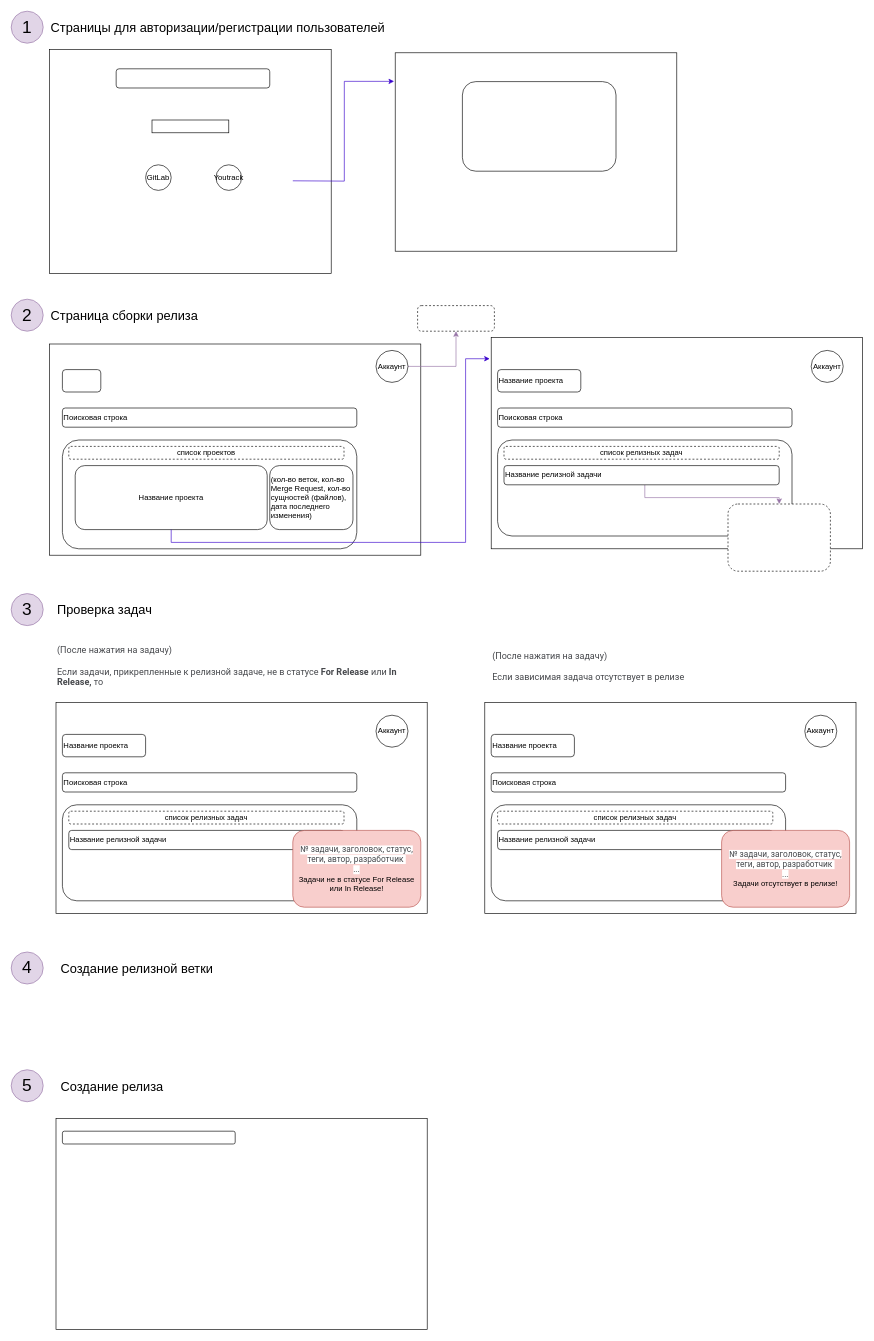
This 874x1341 diagram has some shape labels left out. The centre of each missing label's shape, as x and y in pixels:
Авторизация: [193,78]
войти по: [190,126]
Выйти из аккаунта: [455,318]
Выпадающий список для выбора ветки, из которой будет создана релизная ветка: [778,537]
Подтверждение аккаунта (скорее всего на платформе GitLab/Yotrack): [539,126]
Предыдущая версия -> Новая версия: [148,1137]
Проекты: [81,380]
